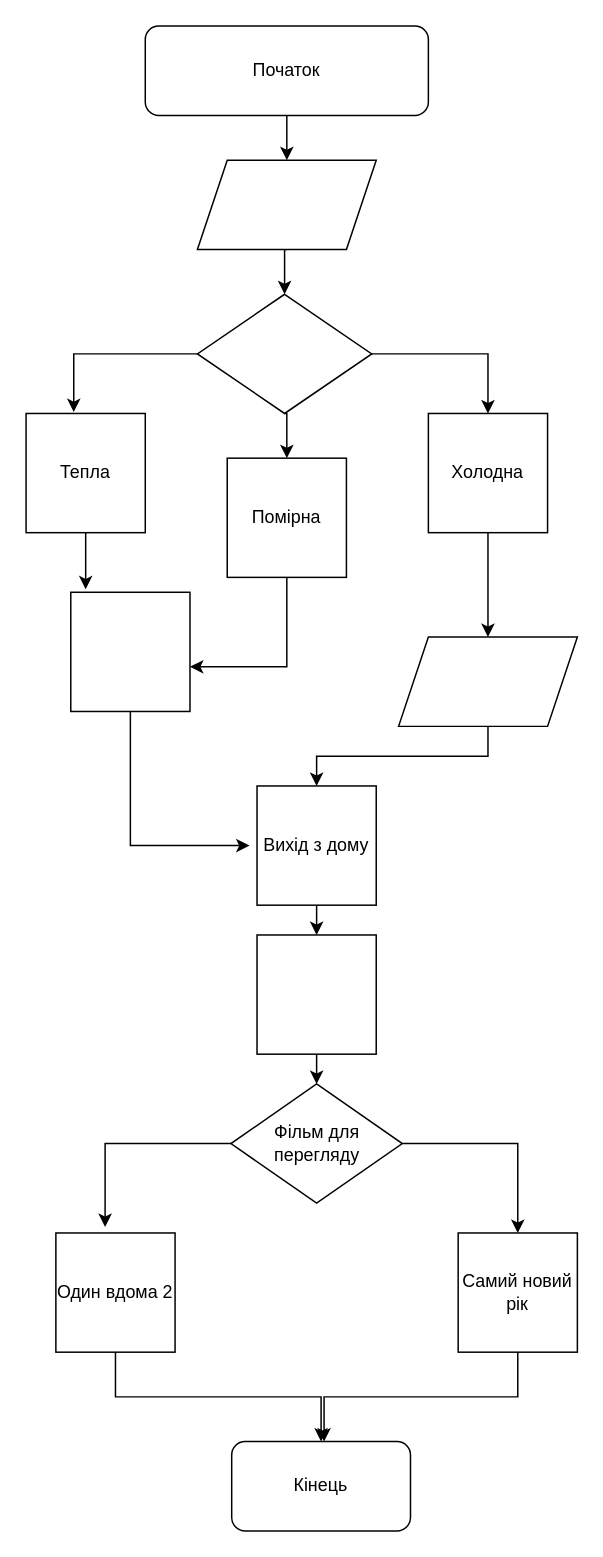
The diagram is 603 pixels wide and 1557 high, and some of its shapes have lost their labels. Each missing label, with the centre of its shape:
"Зайти в кінотеатр" goes at [316,993].
"Ні" goes at [129,651].
"Одягнути зимову куртку" goes at [487,680].
"Перевірити погоду" goes at [286,204].
"Погода" goes at [284,353].
